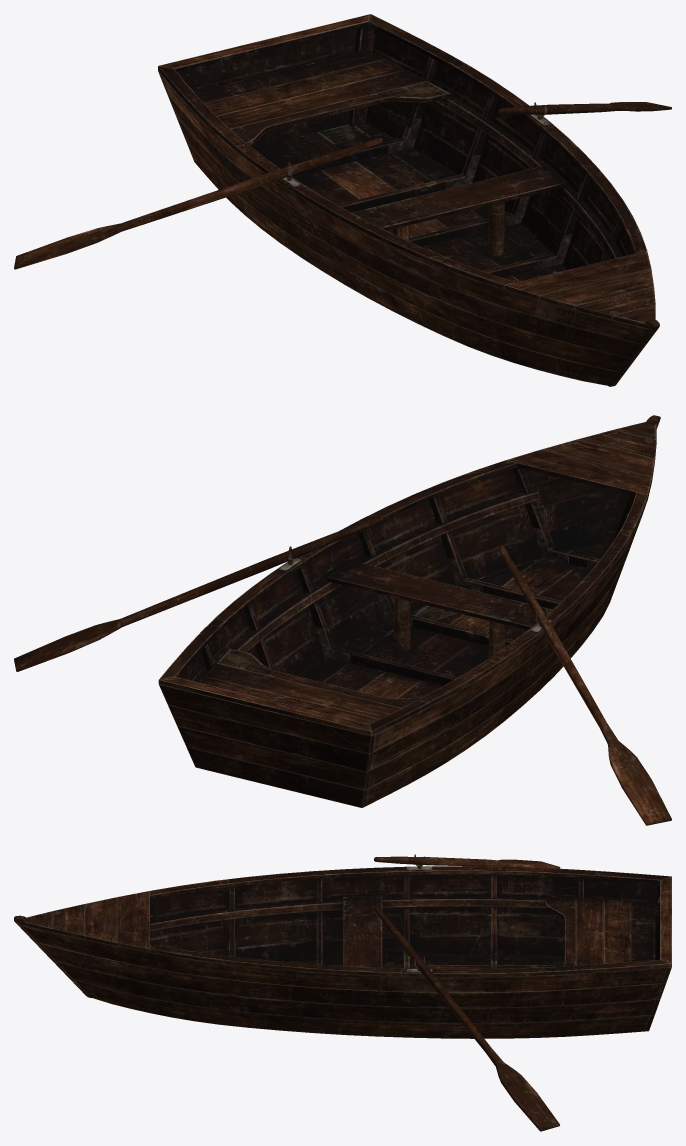
The model's file is jollyboat.glb.
3 views of the same model, one above another, from view 1: azimuth 30°, elevation 25°; view 2: azimuth 150°, elevation 25°; view 3: azimuth 270°, elevation 25° (orthographic). The views are drawn at different scales.
Visible parts, largest first — view 1: Base, RearBench, CrossPlanks, Bench, PaddleR, SideSupport, PaddleL, BenchSupport; view 2: Base, CrossPlanks, RearBench, Bench, PaddleR, PaddleL, SideSupport, BenchSupport; view 3: Base, RearBench, SideSupport, PaddleL, Bench, CrossPlanks, PaddleR.
Boxes of the visible parts, left/top/right/bottom form: Base: left=158, top=14, right=659, bottom=386; RearBench: left=194, top=49, right=450, bottom=145; CrossPlanks: left=279, top=56, right=621, bottom=277; Bench: left=351, top=164, right=567, bottom=230; PaddleR: left=14, top=137, right=383, bottom=269; SideSupport: left=435, top=95, right=622, bottom=259; PaddleL: left=498, top=102, right=671, bottom=114; BenchSupport: left=392, top=202, right=505, bottom=256; Base: left=158, top=415, right=660, bottom=807; CrossPlanks: left=201, top=467, right=600, bottom=685; RearBench: left=199, top=648, right=421, bottom=724; Bench: left=327, top=561, right=552, bottom=630; PaddleR: left=498, top=545, right=671, bottom=825; PaddleL: left=14, top=516, right=383, bottom=671; SideSupport: left=198, top=490, right=628, bottom=682; BenchSupport: left=393, top=597, right=505, bottom=658; Base: left=14, top=866, right=671, bottom=1038; RearBench: left=545, top=896, right=655, bottom=966; SideSupport: left=150, top=896, right=545, bottom=931; PaddleL: left=374, top=906, right=559, bottom=1131; Bench: left=343, top=895, right=382, bottom=967; CrossPlanks: left=229, top=874, right=583, bottom=968; PaddleR: left=374, top=856, right=560, bottom=868.
Size of the model in its own units: 471 by 94.48 by 487.
1 material, 1 textured.
